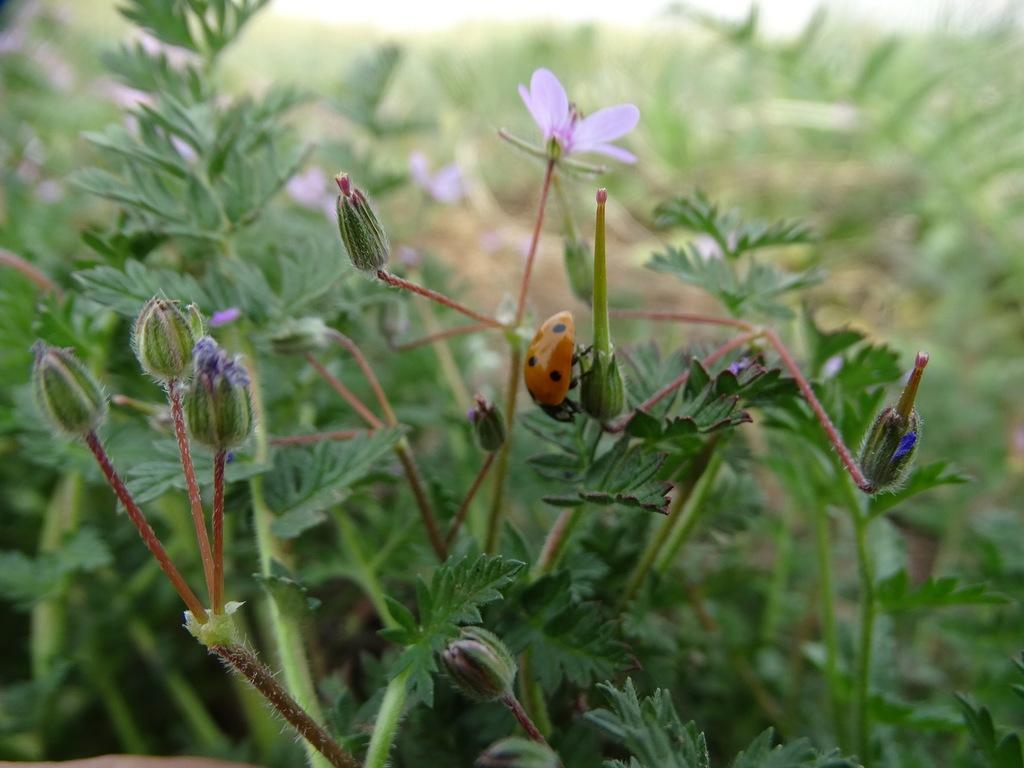ladybug: (523, 307, 601, 429)
